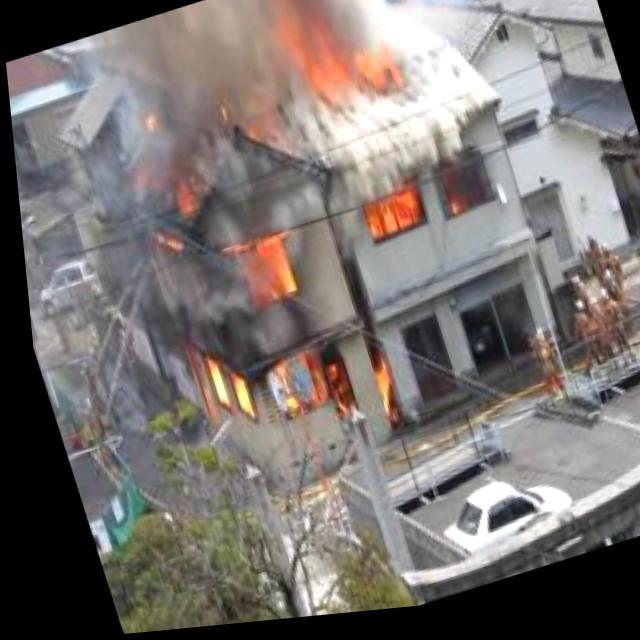fire: (105, 116, 402, 490), (255, 0, 409, 126), (350, 188, 434, 252)
